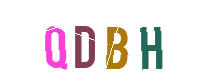B: (76, 0, 156, 80)
D: (65, 0, 145, 80)
H: (78, 0, 158, 80)
Q: (17, 0, 97, 80)
